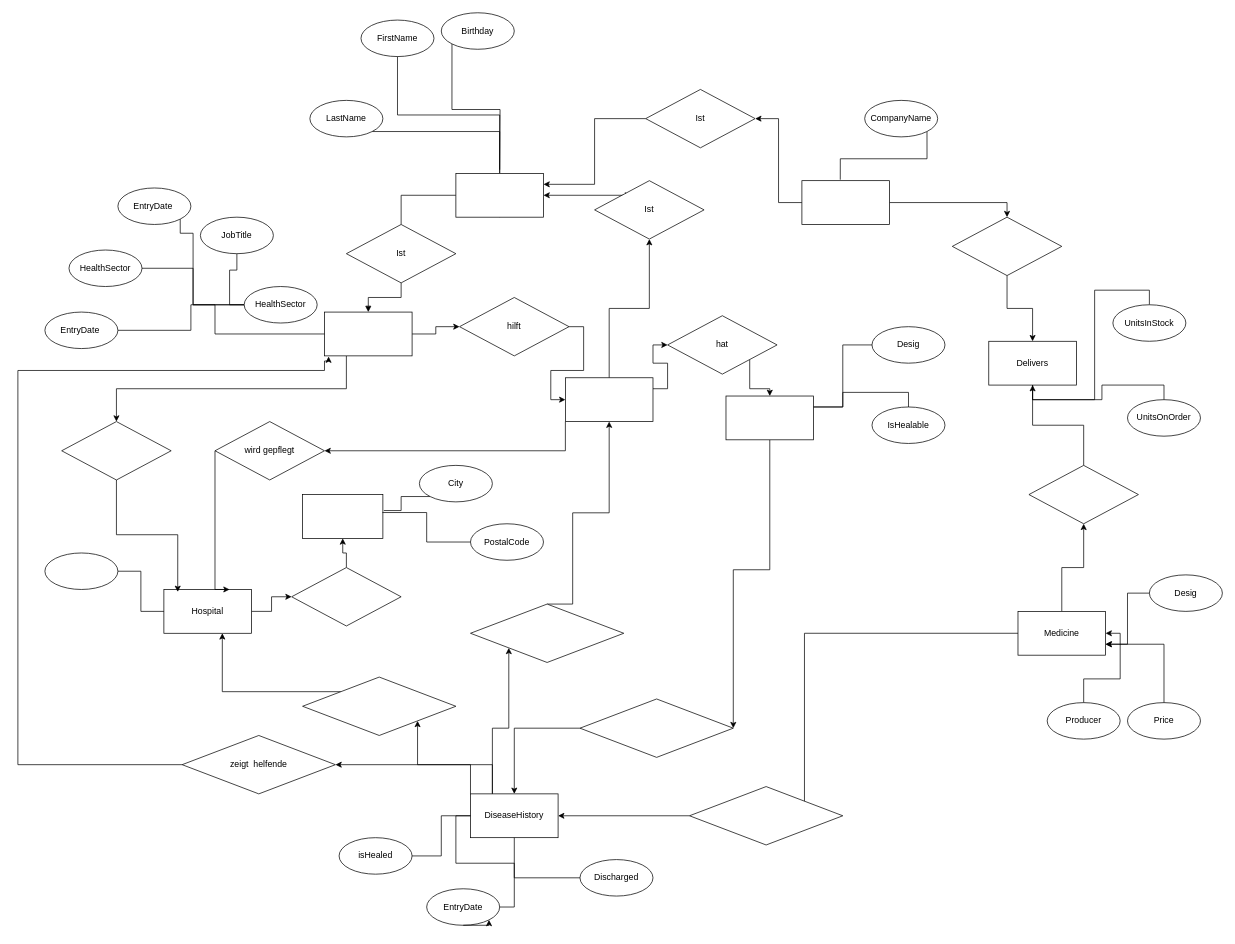
Some shapes in this 1235 by 944 pixel diagram are drawn without their labels. The centre of each missing label's shape, as x and y in pixels:
arbeitet: the point at 116,450
auffindbar am: the point at 346,596
Disease: the point at 769,417
Employee: the point at 368,333
erstellt: the point at 379,705
gibt: the point at 1007,246
NameOfHospital: the point at 81,570
Patient: the point at 609,399
Person: the point at 499,195
Place: the point at 342,516
sendet via: the point at 1083,494
Supplier: the point at 845,202
zeigt: the point at 656,727
zeigt aufgenommene: the point at 766,815
zeigt gepflegte: the point at 547,632
